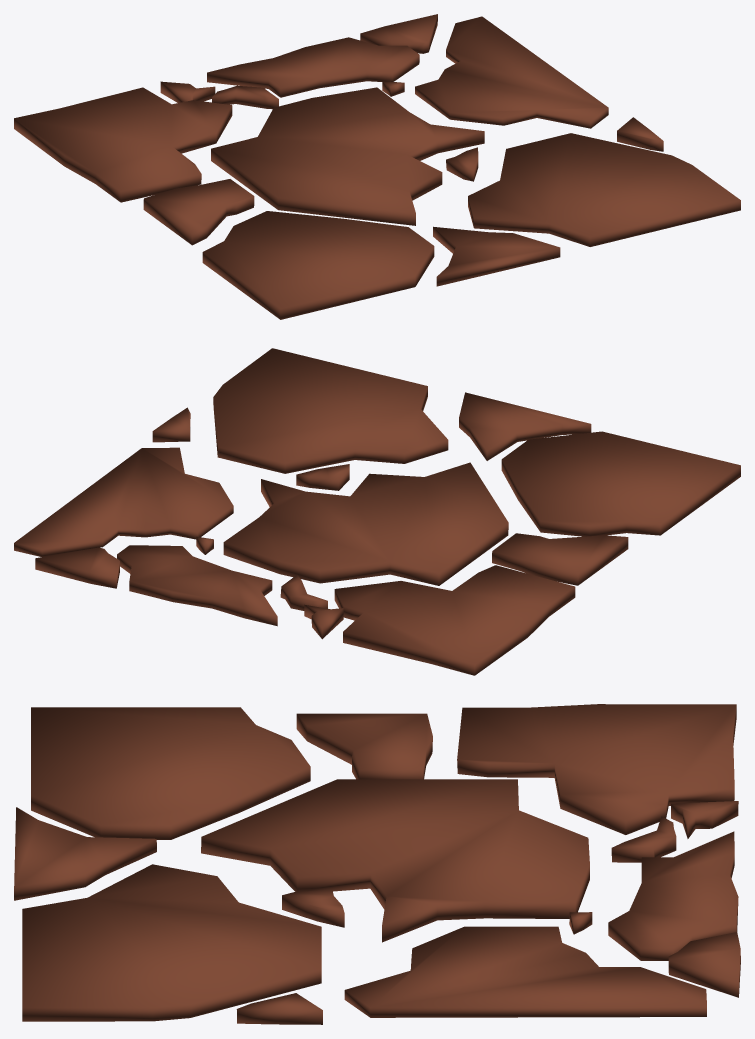
The model's file is breakableFloor.obj.
3 views of the same model, one above another, from view 1: azimuth 30°, elevation 25°; view 2: azimuth 150°, elevation 25°; view 3: azimuth 270°, elevation 25° (orthographic). The views are drawn at different scales.
Visible parts, largest first — view 1: 立方体.002; view 2: 立方体.002; view 3: 立方体.002.
Boxes of the visible parts, x1,y1,x2,y2 form: 立方体.002: (14, 14, 740, 319); 立方体.002: (14, 348, 740, 675); 立方体.002: (14, 704, 740, 1024).
Size of the model in its own units: 1.95 by 0.0495 by 1.96.
Materials: 1 (1 with a texture image).
